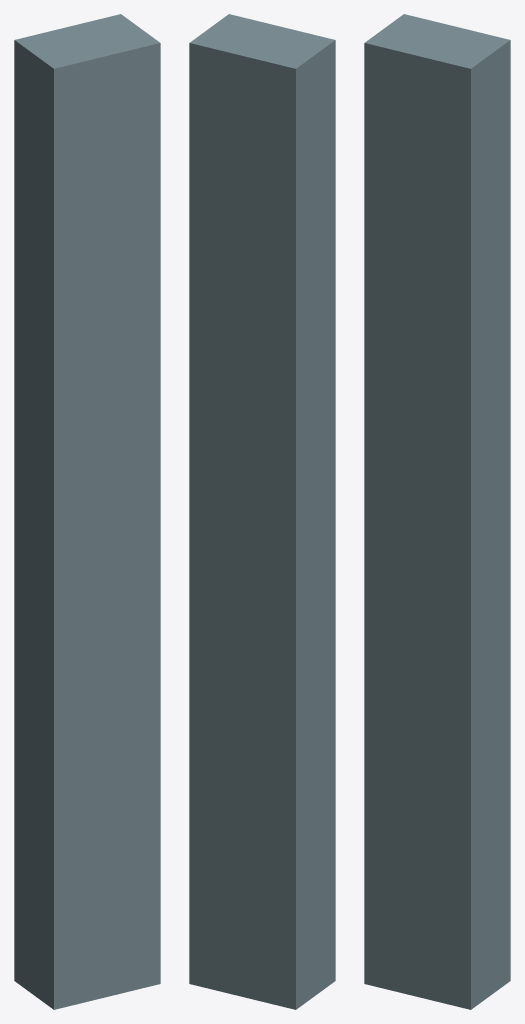
The model's file is step_02.glb.
3 renders of one model, left to right at view 1: azimuth 30°, elevation 25°; view 2: azimuth 150°, elevation 25°; view 3: azimuth 330°, elevation 25°, orthographic.
Visible parts, largest first — view 1: part__mitre post; view 2: part__mitre post; view 3: part__mitre post.
Part boxes in pixels (bbox=[...]): part__mitre post: bbox=[14, 14, 160, 1009]; part__mitre post: bbox=[189, 14, 335, 1009]; part__mitre post: bbox=[364, 14, 510, 1009].
Bounding box in the file's own units: 700 × 5910 × 450.
